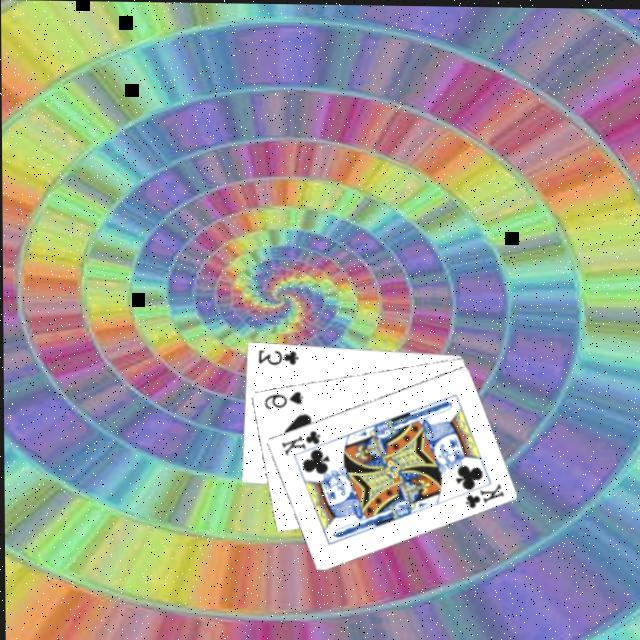3C: (255, 346, 301, 369)
6S: (260, 388, 308, 414)
KC: (453, 478, 508, 512), (278, 427, 330, 462)
